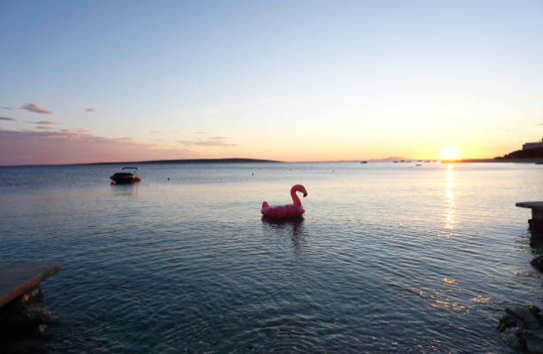Flamingo: (258, 182, 310, 223)
